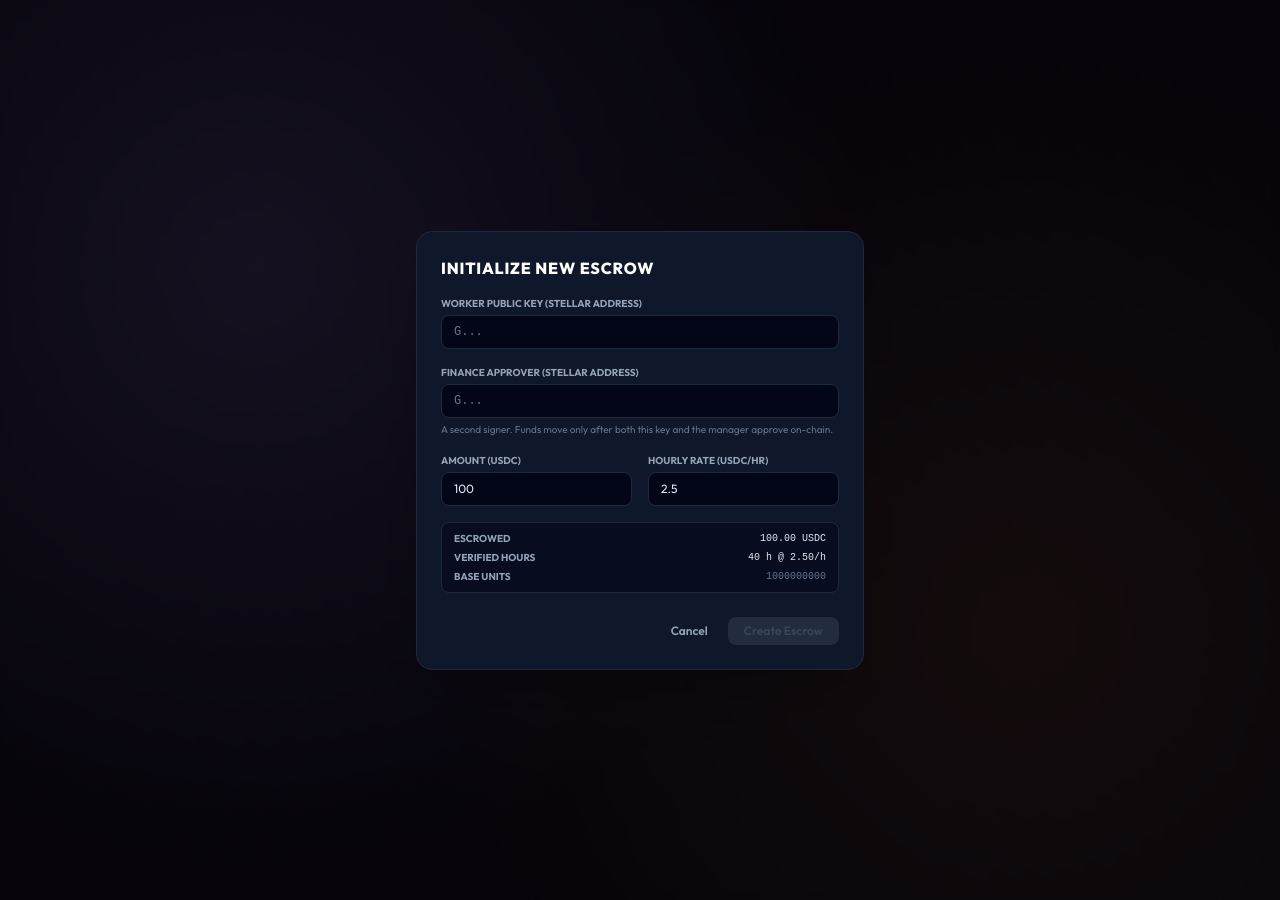
Test case: CreateEscrowModal Component › shows an error for invalid Stellar addresses in live mode
In the field labelled "Worker Public Key (Stellar Address)": (640, 332) [441,314,839,348], type "InvalidWorker123"
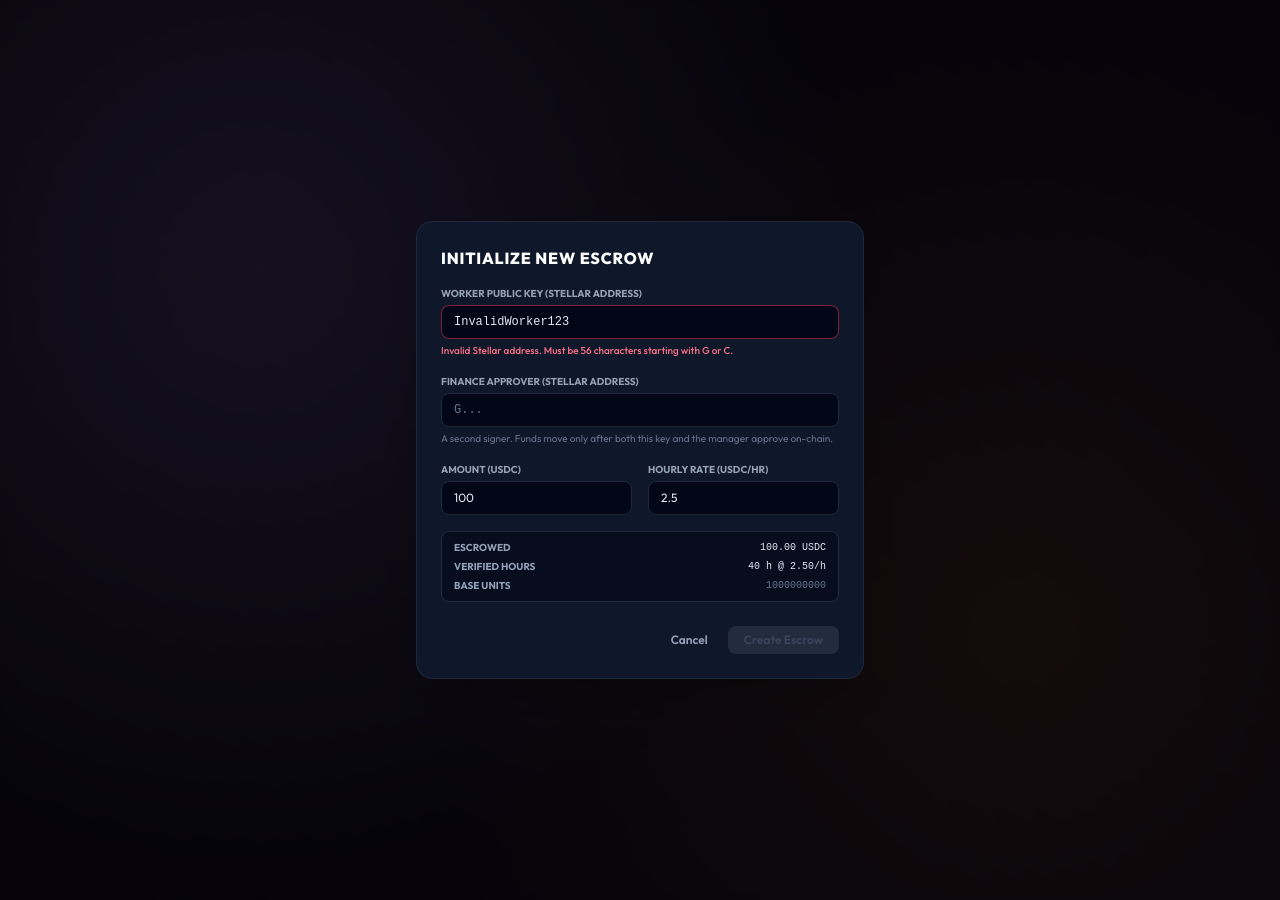
Check: the text "Invalid Stellar address" is shown, box [441,344,733,357]
